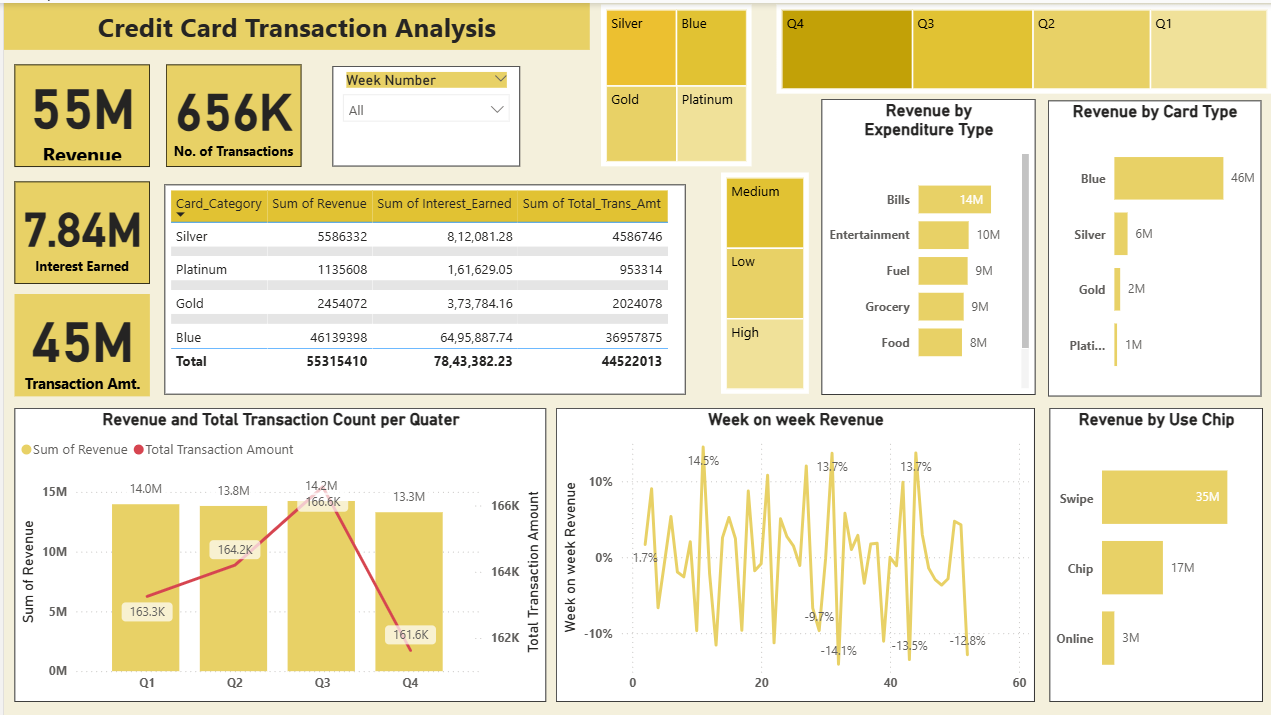

The dashboard page shown, as its layout file describes it:
{"tool":"powerbi","page":{"name":"CC Transaction Analysis","canvas":[1280,720],"ordinal":0},"visuals":[{"type":"textbox","box":[0,0,591.4,47.1],"z":0},{"type":"lineStackedColumnComboChart","title":"Revenue and Total Transaction Count per Quater","fields":{"Category":["Credit card details.Qtr"],"Y":["Sum(Credit card details.Revenue)"],"Y2":["Sum(Credit card details.Total_Trans_Vol)"]},"box":[10,408.3,536.7,296.7],"z":1000},{"type":"barChart","title":"Revenue by Expenditure Type","fields":{"Category":["Credit card details.Exp Type"],"Y":["Sum(Credit card details.Revenue)"]},"box":[825.7,97.1,215.7,298.6],"z":2000},{"type":"barChart","title":"Revenue by Card Type","fields":{"Y":["Sum(Credit card details.Revenue)"],"Category":["Credit card details.Card_Category"]},"box":[1053.3,98.3,215,298.3],"z":3000},{"type":"barChart","title":"Revenue by Use Chip","fields":{"Y":["Sum(Credit card details.Revenue)"],"Category":["Credit card details.Use Chip"]},"box":[1055,408.3,215,296.7],"z":4000},{"type":"tableEx","fields":{"Values":["Credit card details.Card_Category","Sum(Credit card details.Revenue)","Sum(Credit card details.Interest_Earned)","Sum(Credit card details.Total_Trans_Amt)"]},"box":[162.1,183.3,526,212.1],"z":5000},{"type":"card","fields":{"Values":["Sum(Credit card details.Revenue)"]},"box":[10.6,62.1,136.4,103],"z":6000},{"type":"card","fields":{"Values":["Sum(Credit card details.Total_Trans_Amt)"]},"box":[10,293.3,136.7,103.3],"z":7000},{"type":"card","fields":{"Values":["Sum(Credit card details.Interest_Earned)"]},"box":[10,180,136.7,103.3],"z":8000},{"type":"card","fields":{"Values":["Sum(Credit card details.Total_Trans_Vol)"]},"box":[163.6,62.1,136.4,103],"z":9000},{"type":"slicer","fields":{"Values":["Credit card details.Week_Num_2"]},"box":[331.8,63.6,189.4,101.5],"z":10000},{"type":"treemap","fields":{"Group":["Credit card details.Qtr"],"Values":["Avg(Credit card details.Client_Num)"]},"box":[780,1.7,500,90],"z":11000},{"type":"treemap","fields":{"Values":["Avg(Credit card details.Client_Num)"],"Group":["Credit card details.Card_Category"]},"box":[603.3,1.7,151.7,163.3],"z":12000},{"type":"treemap","fields":{"Values":["Avg(Credit card details.Client_Num)"],"Group":["Customer details.Income_Group"]},"box":[723.3,171.7,88.3,223.3],"z":13000},{"type":"lineChart","title":"Week on week Revenue ","fields":{"Y":["Credit card details.Week_on_week_revenue"],"Category":["Credit card details.Week_Num_2"]},"box":[556.7,408.3,483.3,296.7],"z":14000}]}

Visuals, with their boxes in screenshot pixels (x1, y1, x2, y2), scaled from the page's 1280x720 canvas onto the 1271x715 screenshot:
textbox: <region>0, 0, 587, 47</region>
"Revenue and Total Transaction Count per Quater" lineStackedColumnComboChart: <region>10, 405, 543, 700</region>
"Revenue by Expenditure Type" barChart: <region>820, 96, 1034, 393</region>
"Revenue by Card Type" barChart: <region>1046, 98, 1259, 394</region>
"Revenue by Use Chip" barChart: <region>1048, 405, 1261, 700</region>
tableEx - Credit card details.Card_Category x Sum(Credit card details.Revenue): <region>161, 182, 683, 393</region>
card - Sum(Credit card details.Revenue): <region>11, 62, 146, 164</region>
card - Sum(Credit card details.Total_Trans_Amt): <region>10, 291, 146, 394</region>
card - Sum(Credit card details.Interest_Earned): <region>10, 179, 146, 281</region>
card - Sum(Credit card details.Total_Trans_Vol): <region>162, 62, 298, 164</region>
slicer - Credit card details.Week_Num_2: <region>329, 63, 518, 164</region>
treemap - Credit card details.Qtr x Avg(Credit card details.Client_Num): <region>775, 2, 1270, 91</region>
treemap - Avg(Credit card details.Client_Num) x Credit card details.Card_Category: <region>599, 2, 750, 164</region>
treemap - Avg(Credit card details.Client_Num) x Customer details.Income_Group: <region>718, 171, 806, 392</region>
"Week on week Revenue " lineChart: <region>553, 405, 1033, 700</region>
